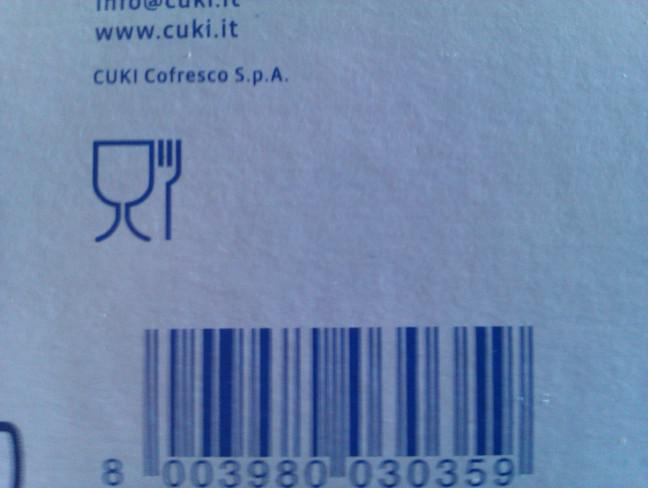Barkod: (78, 302, 560, 481)
